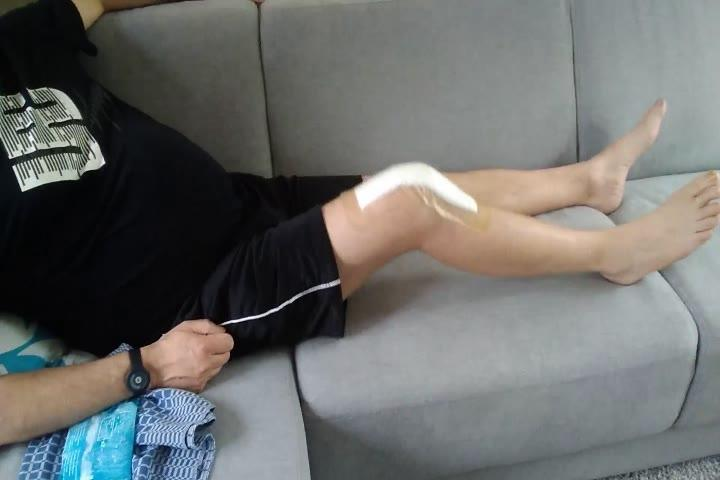lower_body: (136, 91, 720, 363)
